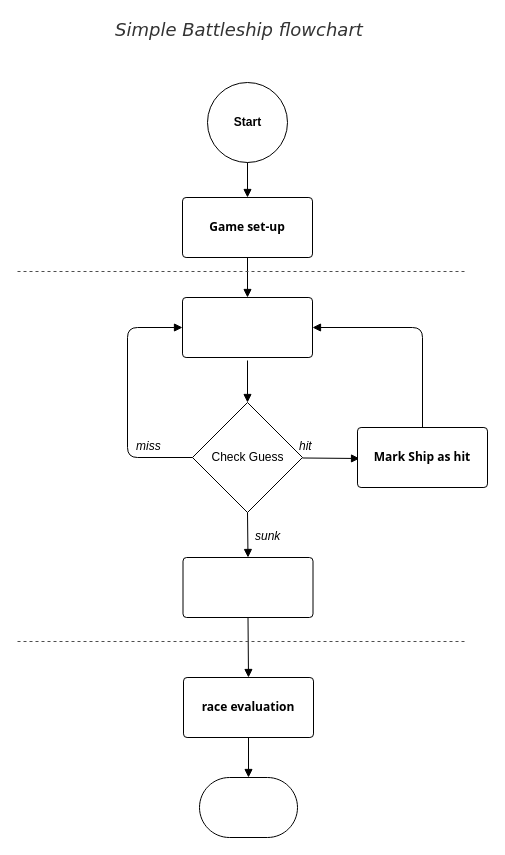
The diagram is 505 pixels wide and 855 high, and some of its shapes have lost their labels. Here are the shapes that lost their labels. From the top down, the centre of each, then its label:
At [247,327]: "Get u ser guess".
At [247,587]: "Mark ship as sunk".
At [248,807]: "Game Over".
